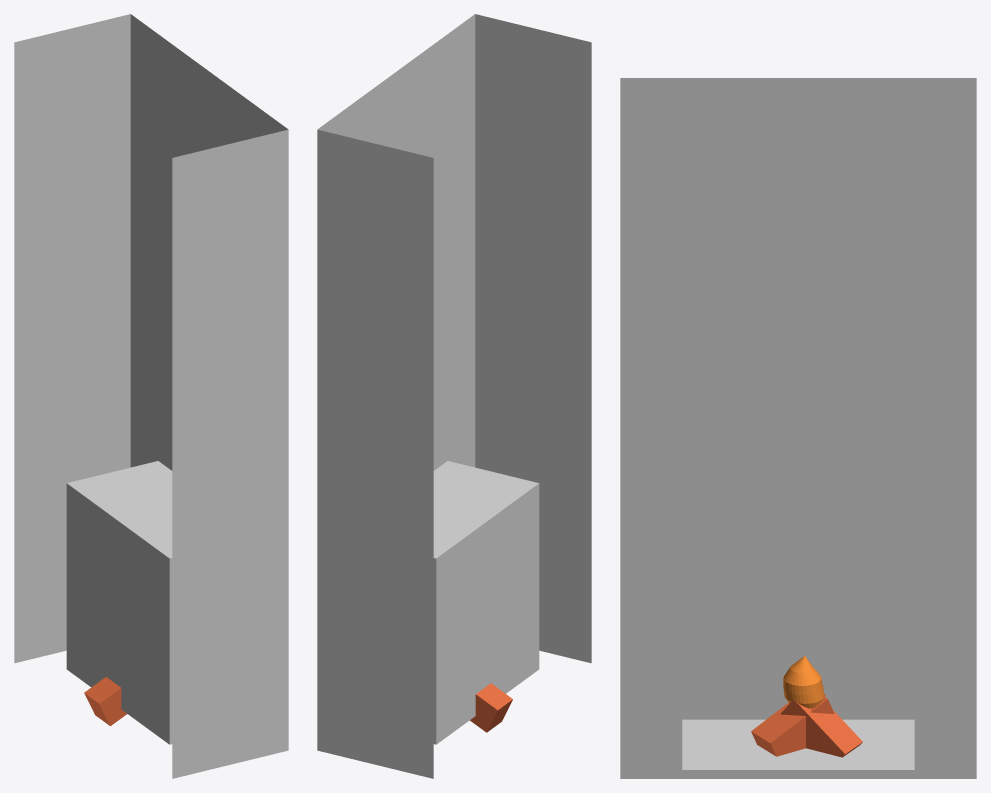
The model's file is FirePlace.fbx.
3 views of the same model, side by side, from view 1: azimuth 30°, elevation 25°; view 2: azimuth 150°, elevation 25°; view 3: azimuth 270°, elevation 25° (orthographic). The views are drawn at different scales.
Visible parts, largest first — view 1: Cube, Cube.002; view 2: Cube, Cube.002; view 3: Cube, Cube.003, Cube.001, Cylinder.
Part boxes in pixels (x1,y1,x2,y2): Cube: (14, 14, 288, 778); Cube.002: (84, 677, 126, 726); Cube: (317, 14, 591, 778); Cube.002: (470, 683, 512, 732); Cube: (620, 78, 976, 778); Cube.003: (780, 699, 862, 757); Cube.001: (751, 697, 834, 756); Cylinder: (783, 656, 824, 708).
Bounding box in the file's own units: 38.61 × 200 × 90.65.
